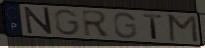G: (53, 8, 81, 37), (112, 11, 139, 40)
M: (167, 14, 200, 44)
N: (22, 6, 54, 35)
R: (80, 9, 113, 38)
T: (142, 13, 164, 41)
